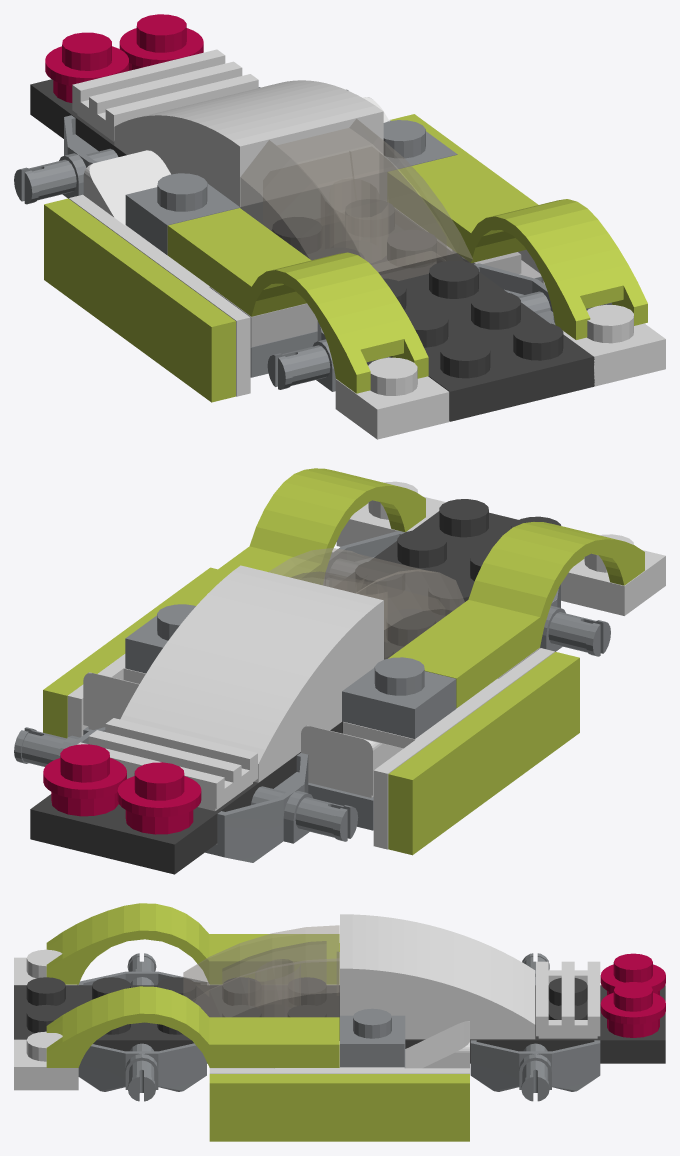
File: lego-lamb-racer.glb
3 renders of one model, top to bottom at view 1: azimuth 30°, elevation 25°; view 2: azimuth 150°, elevation 25°; view 3: azimuth 270°, elevation 25°, orthographic. The views are drawn at different scales.
Parts seen in each view (by area): view 1: Part-3795, Part-30602, Part-50947.Part-50940.000_Part-50947.000, Part-50947.Part-50940.000_Part-50947.003, Part-2431.Part-24310.Part-24311.000_Part-2431.000, Part-50950.Part-50951_Part-50950, Part-3710.Part-37100_Part-3710, Part-2412, Part-50950.Part-50951_Part-50950.001, Part-30240.Part-30241_Part-30240, Part-30240.Part-30241_Part-30240.001, Part-6157.Part-61570.001_Part-6157.001 (+10 smaller); view 2: Part-50950.Part-50951_Part-50950, Part-2431.Part-24310.Part-24311.000_Part-2431.000, Part-50947.Part-50940.000_Part-50947.000, Part-50950.Part-50951_Part-50950.001, Part-3795, Part-50947.Part-50940.000_Part-50947.003, Part-6157.Part-61570_Part-6157, Part-3710.Part-37100_Part-3710, Part-3020, Part-30602, Part-2412, Part-4073.Part-40730_Part-4073 (+10 smaller); view 3: Part-2431.Part-24310.Part-24311.000_Part-2431.003, Part-50950.Part-50951_Part-50950.001, Part-50947.Part-50940.000_Part-50947.003, Part-50947.Part-50940.000_Part-50947.000, Part-30602, Part-3795, Part-6157.Part-61570.001_Part-6157.001, Part-6157.Part-61570_Part-6157, Part-50950.Part-50951_Part-50950, Part-3020, Part-2412, Part-3710.Part-37100_Part-3710 (+6 smaller).
Part boxes in pixels (x1,y1,x2,y2): Part-3795: (271, 199, 594, 421); Part-30602: (240, 119, 472, 280); Part-50947.Part-50940.000_Part-50947.000: (167, 208, 428, 393); Part-50947.Part-50940.000_Part-50947.003: (387, 154, 647, 339); Part-2431.Part-24310.Part-24311.000_Part-2431.000: (44, 198, 235, 402); Part-50950.Part-50951_Part-50950: (114, 98, 311, 206); Part-3710.Part-37100_Part-3710: (125, 120, 457, 255); Part-2412: (72, 49, 258, 141); Part-50950.Part-50951_Part-50950.001: (212, 80, 383, 188); Part-30240.Part-30241_Part-30240: (335, 357, 449, 439); Part-30240.Part-30241_Part-30240.001: (563, 304, 665, 386); Part-6157.Part-61570.001_Part-6157.001: (267, 263, 611, 391); Part-50950.Part-50951_Part-50950: (192, 583, 383, 782); Part-2431.Part-24310.Part-24311.000_Part-2431.000: (388, 652, 579, 855); Part-50947.Part-50940.000_Part-50947.000: (388, 522, 644, 708); Part-50950.Part-50951_Part-50950.001: (120, 565, 311, 736); Part-3795: (342, 499, 561, 733); Part-50947.Part-50940.000_Part-50947.003: (168, 468, 425, 605); Part-6157.Part-61570_Part-6157: (14, 727, 358, 862); Part-3710.Part-37100_Part-3710: (125, 604, 456, 738); Part-3020: (30, 722, 341, 874); Part-30602: (269, 548, 464, 659); Part-2412: (77, 718, 257, 811); Part-4073.Part-40730_Part-4073: (117, 762, 201, 834); Part-2431.Part-24310.Part-24311.000_Part-2431.003: (209, 1074, 469, 1141); Part-50950.Part-50951_Part-50950.001: (340, 941, 535, 1039); Part-50947.Part-50940.000_Part-50947.003: (46, 986, 339, 1067); Part-50947.Part-50940.000_Part-50947.000: (46, 903, 339, 984); Part-30602: (183, 925, 339, 1017); Part-3795: (14, 977, 339, 1063); Part-6157.Part-61570.001_Part-6157.001: (77, 953, 206, 1101); Part-6157.Part-61570_Part-6157: (470, 953, 600, 1101); Part-50950.Part-50951_Part-50950: (340, 914, 535, 996); Part-3020: (405, 977, 665, 1063); Part-2412: (536, 961, 600, 1038); Part-3710.Part-37100_Part-3710: (340, 1008, 404, 1067).
Size of the model in its own units: 1.6 by 0.6921 by 3.15.
